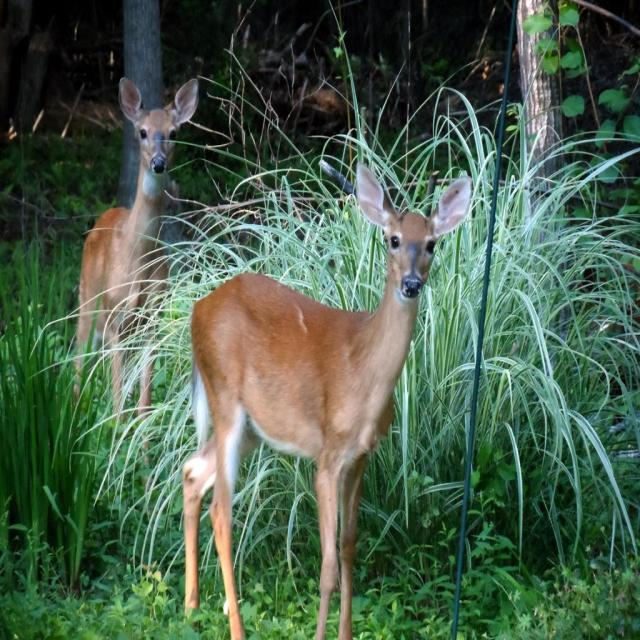Deer: (180, 158, 472, 640), (75, 76, 199, 483)
